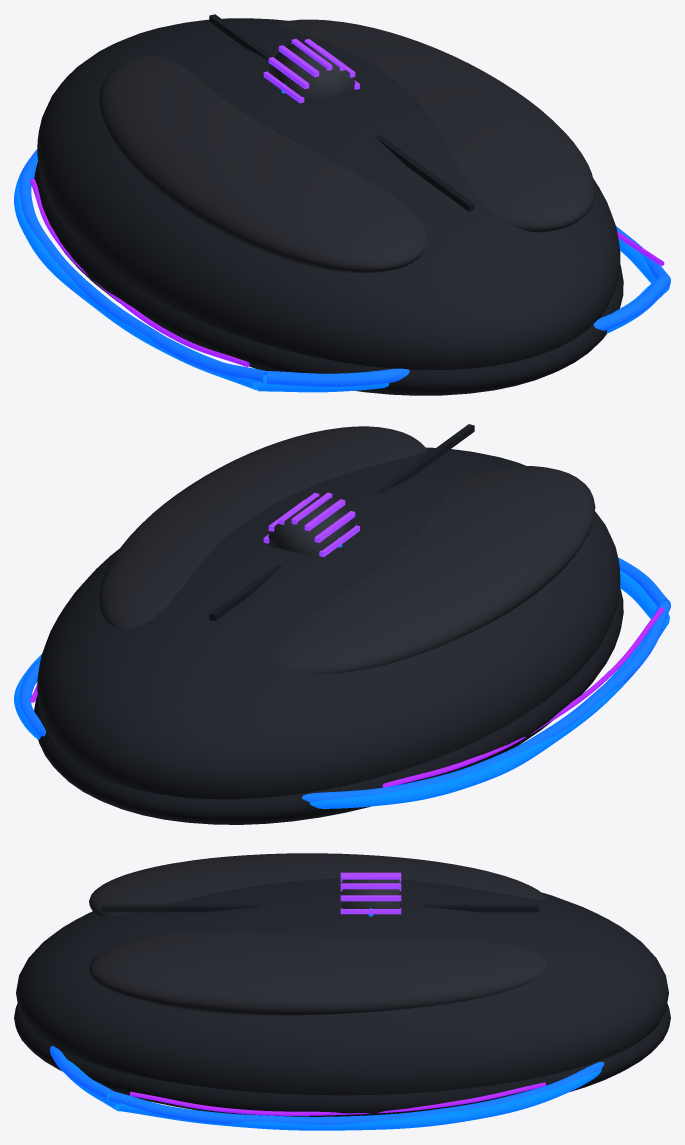
The model's file is aerix-3d-start-mouse.glb.
3 views of the same model, one above another, from view 1: azimuth 30°, elevation 25°; view 2: azimuth 150°, elevation 25°; view 3: azimuth 270°, elevation 25° (orthographic). The views are drawn at different scales.
Visible parts, largest first — view 1: Mouse_Body, Left_Click, Right_Click, Lower_Mouse_Shell, BLUE_LED_LEFT, BLUE_LED_FRONT, Scroll_Wheel, Blue_Neon_Left, Center_Button_Separation, PURPLE_GLOW_LEFT, Blue_Neon_Front; view 2: Mouse_Body, Left_Click, Right_Click, Lower_Mouse_Shell, BLUE_LED_LEFT, Blue_Neon_Left, Scroll_Wheel, Center_Button_Separation, PURPLE_GLOW_LEFT, BLUE_LED_RIGHT, Blue_Neon_Front, BLUE_LED_FRONT; view 3: Mouse_Body, Right_Click, Left_Click, Lower_Mouse_Shell, Blue_Neon_Right, BLUE_LED_RIGHT, Center_Button_Separation, PURPLE_GLOW_RIGHT, Scroll_Wheel, BLUE_LED_FRONT, Wheel_Grip_02, Wheel_Grip_03.
Part boxes in pixels (box(x1,y1,x2,y2)): Mouse_Body: box(37, 18, 620, 369); Left_Click: box(99, 55, 427, 273); Right_Click: box(278, 19, 595, 232); Lower_Mouse_Shell: box(34, 161, 623, 395); BLUE_LED_LEFT: box(19, 149, 267, 383); BLUE_LED_FRONT: box(266, 274, 670, 386); Scroll_Wheel: box(267, 42, 355, 103); Blue_Neon_Left: box(14, 159, 257, 390); Center_Button_Separation: box(209, 14, 474, 211); PURPLE_GLOW_LEFT: box(30, 178, 249, 367); Blue_Neon_Front: box(257, 279, 669, 392); Mouse_Body: box(37, 447, 620, 799); Left_Click: box(278, 466, 595, 674); Right_Click: box(99, 426, 427, 628); Lower_Mouse_Shell: box(34, 587, 623, 824); BLUE_LED_LEFT: box(302, 600, 670, 802); Blue_Neon_Left: box(309, 616, 669, 808); Scroll_Wheel: box(267, 496, 355, 559); Center_Button_Separation: box(209, 424, 474, 621); PURPLE_GLOW_LEFT: box(382, 607, 664, 787); BLUE_LED_RIGHT: box(19, 659, 45, 736); Blue_Neon_Front: box(620, 570, 669, 620); BLUE_LED_FRONT: box(618, 557, 670, 606); Mouse_Body: box(16, 878, 668, 1095); Right_Click: box(89, 931, 546, 1015); Left_Click: box(89, 853, 546, 916); Lower_Mouse_Shell: box(14, 1003, 670, 1116); Blue_Neon_Right: box(119, 1069, 601, 1130); BLUE_LED_RIGHT: box(109, 1061, 604, 1124); Center_Button_Separation: box(101, 904, 538, 912); PURPLE_GLOW_RIGHT: box(129, 1082, 545, 1115); Scroll_Wheel: box(342, 879, 399, 916); BLUE_LED_FRONT: box(49, 1046, 113, 1101); Wheel_Grip_02: box(340, 883, 401, 889); Wheel_Grip_03: box(340, 895, 401, 901).
Bounding box in the file's own units: 7.2 × 3.6 × 10.36.
